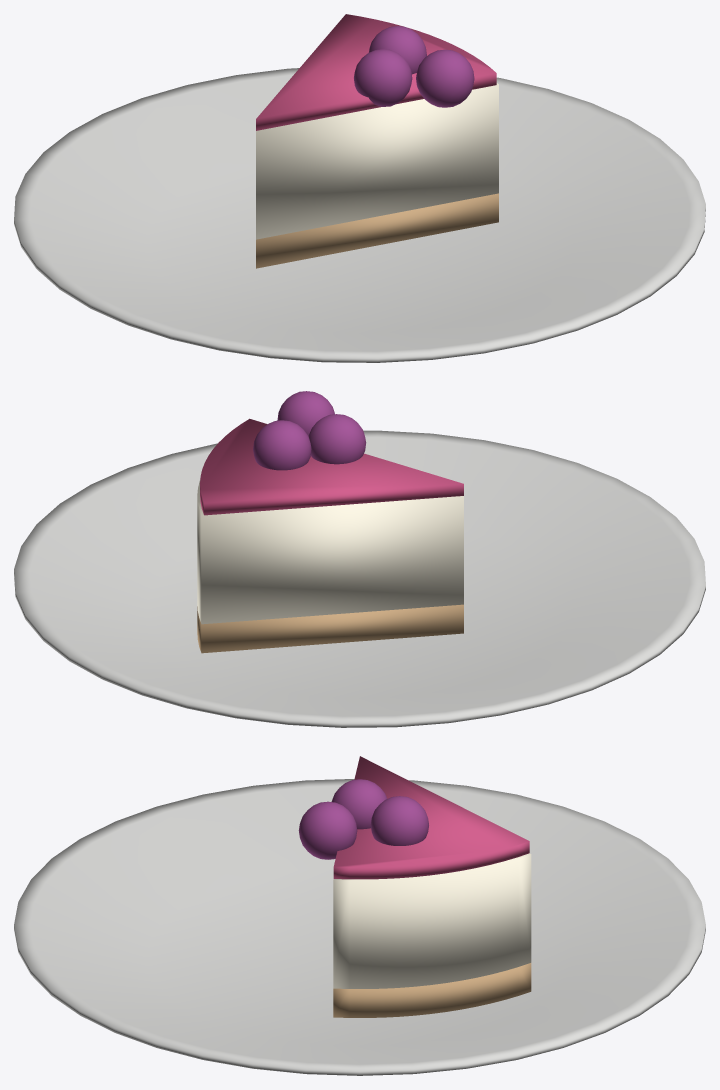
File: cheesecake.glb
3 views of the same model, one above another, from view 1: azimuth 30°, elevation 25°; view 2: azimuth 150°, elevation 25°; view 3: azimuth 270°, elevation 25° (orthographic).
Parts seen in each view (by area): view 1: part0, part2, part3, part1, part4; view 2: part0, part2, part3, part1, part4; view 3: part0, part2, part3, part4, part1.
Boxes of the visible parts, bbox=[...] form: part0: bbox=[14, 68, 705, 362]; part2: bbox=[256, 83, 498, 239]; part3: bbox=[256, 14, 496, 130]; part1: bbox=[256, 193, 498, 268]; part4: bbox=[354, 26, 474, 107]; part0: bbox=[14, 430, 705, 727]; part2: bbox=[197, 480, 463, 624]; part3: bbox=[200, 418, 463, 515]; part1: bbox=[197, 604, 463, 653]; part4: bbox=[253, 391, 366, 470]; part0: bbox=[14, 779, 705, 1075]; part2: bbox=[333, 853, 531, 988]; part3: bbox=[333, 756, 529, 879]; part4: bbox=[298, 779, 428, 859]; part1: bbox=[333, 963, 531, 1017].
Size of the model in its own units: 0.26 by 0.084 by 0.26.
